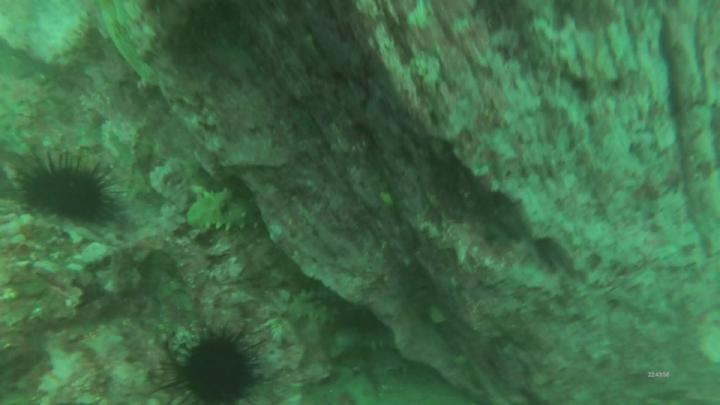echinus: (157, 318, 269, 405), (16, 150, 126, 231)
holothurian: (182, 188, 270, 240), (284, 286, 354, 326), (333, 327, 411, 355)
